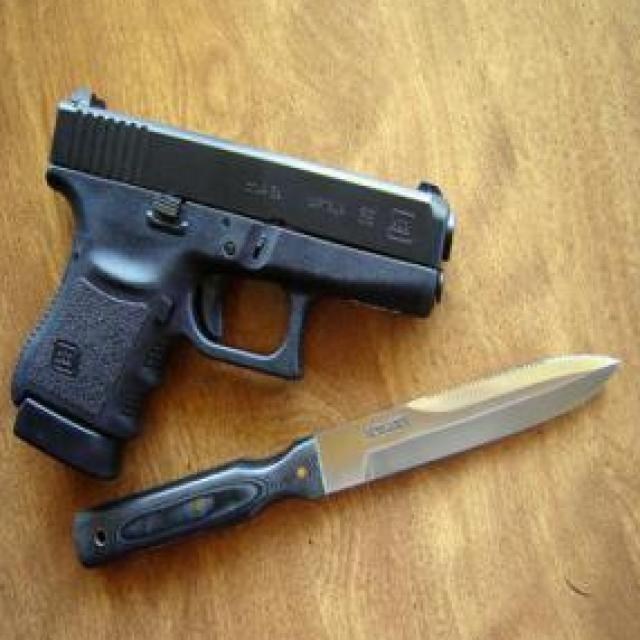pistol: (9, 83, 459, 481)
